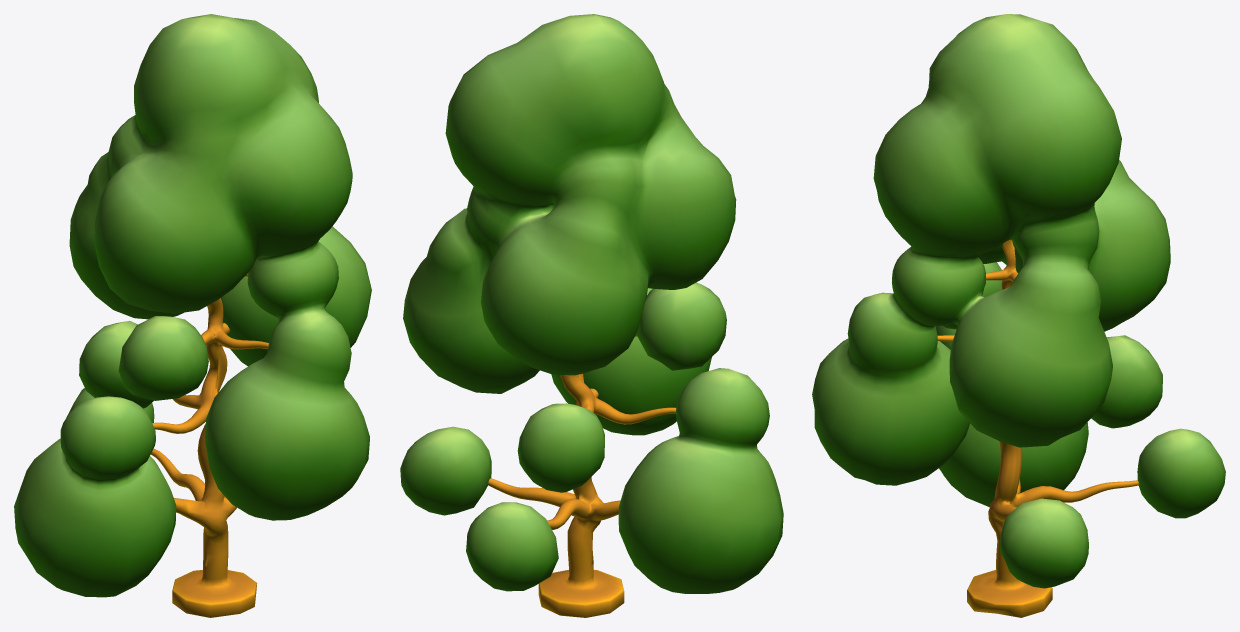
Rendered from tree7.fbx.
The picture shows the model from 3 angles, left to right: view 1: azimuth 30°, elevation 25°; view 2: azimuth 150°, elevation 25°; view 3: azimuth 270°, elevation 25°; orthographic projection.
Visible parts, largest first — view 1: trunk_9; view 2: trunk_9; view 3: trunk_9.
Part boxes in pixels (<box>): trunk_9: <box>14,14,371,617</box>; trunk_9: <box>400,14,783,617</box>; trunk_9: <box>812,14,1225,617</box>.
Bounding box in the file's own units: 563 × 901 × 586.
